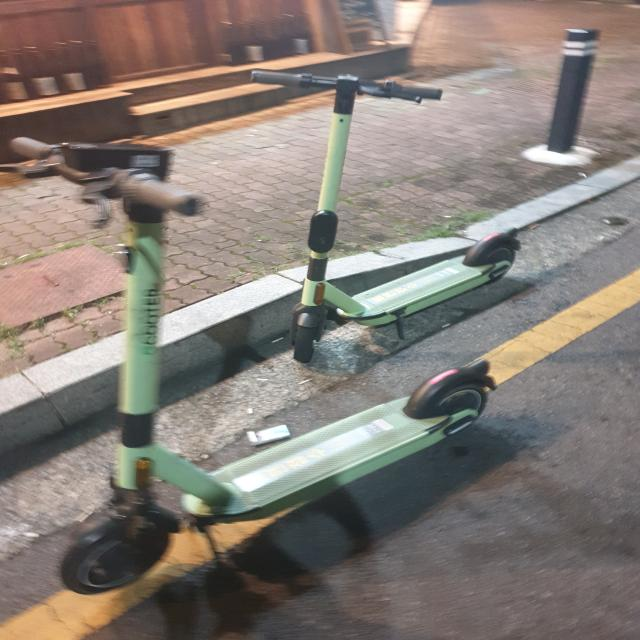bike: (8, 136, 499, 597), (248, 68, 520, 363)
